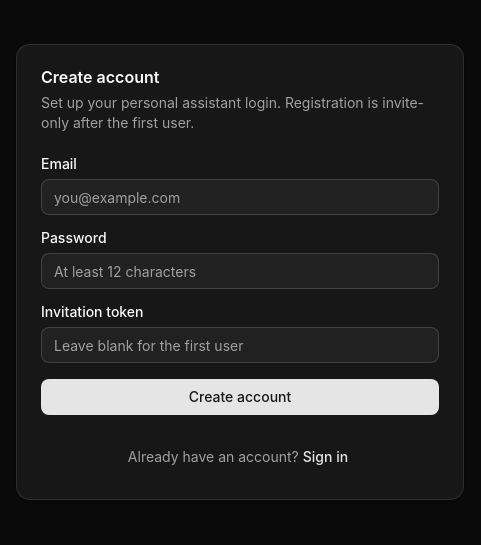
Test: Register › shows FormMessage errors on invalid submit (email + short password)
The width and height of the screenshot is (481, 545).
What coordinates should you click on to do the following:
click the button "Create account"
I would click on:
 (240, 397)
Its box is 41,379 -> 439,415.
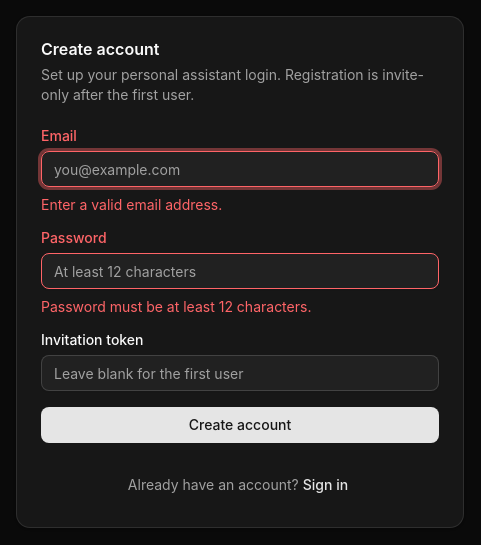
Expected: the text "Enter a valid email address." is shown, 41,196 -> 222,213
Expected: the text "Password must be at least 12 characters." is shown, 41,298 -> 311,315
